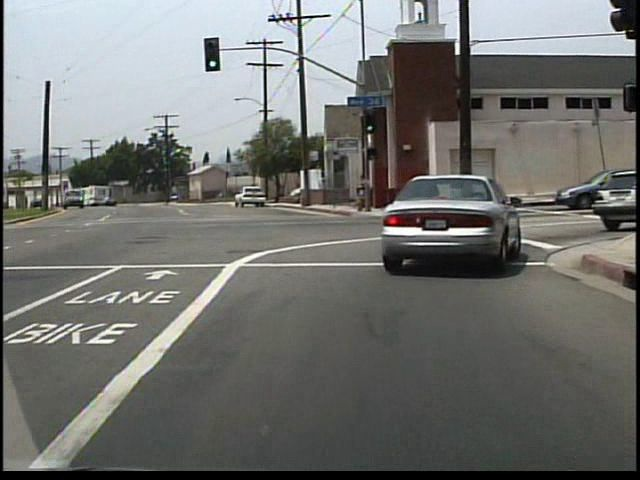person: (353, 173, 368, 212)
